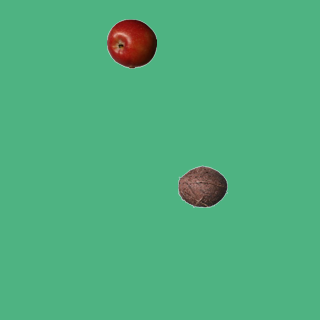Apple Braeburn: (106, 18, 156, 68)
Cocos: (177, 161, 227, 211)
